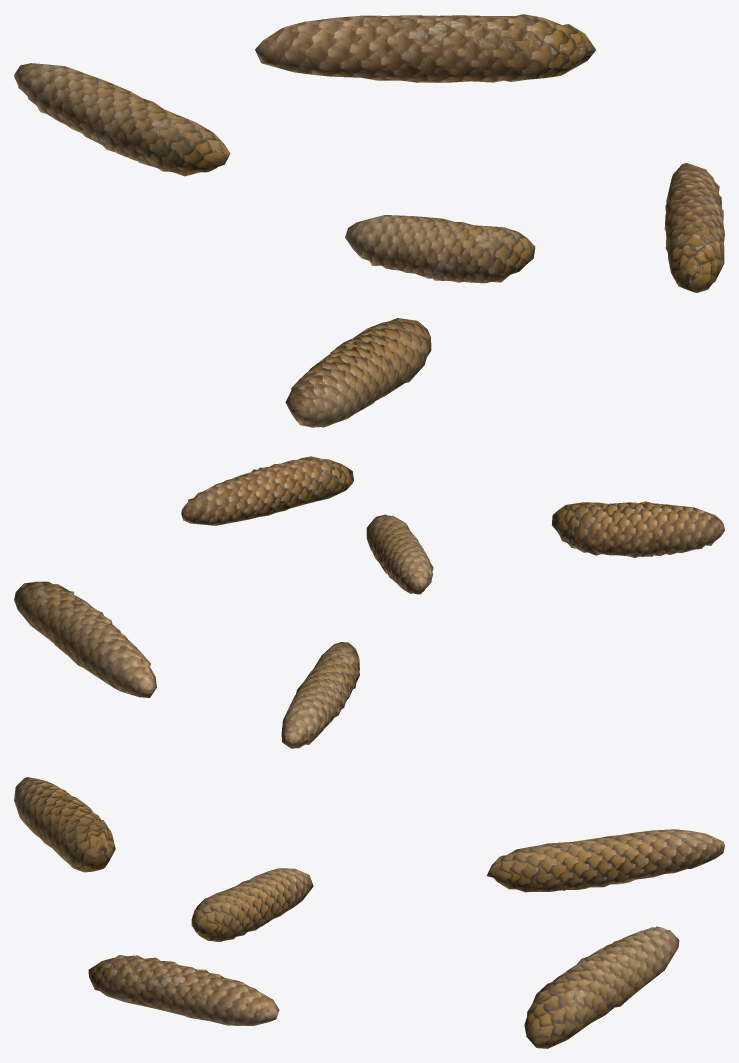
Rendered from PineconeGroup3.fbx.
The picture shows the model from 3 angles, top to bottom: view 1: azimuth 30°, elevation 25°; view 2: azimuth 150°, elevation 25°; view 3: azimuth 270°, elevation 25°; orthographic projection. The views are drawn at different scales.
Parts seen in each view (by area): view 1: PineconeGroup3_LOD0; view 2: PineconeGroup3_LOD0; view 3: PineconeGroup3_LOD0.
Part boxes in pixels (<box>): PineconeGroup3_LOD0: <box>14,14,724,427</box>; PineconeGroup3_LOD0: <box>14,456,724,748</box>; PineconeGroup3_LOD0: <box>14,777,724,1048</box>.
Size of what is drawn, in the model's own units: 49.99 by 5.12 by 60.44.
